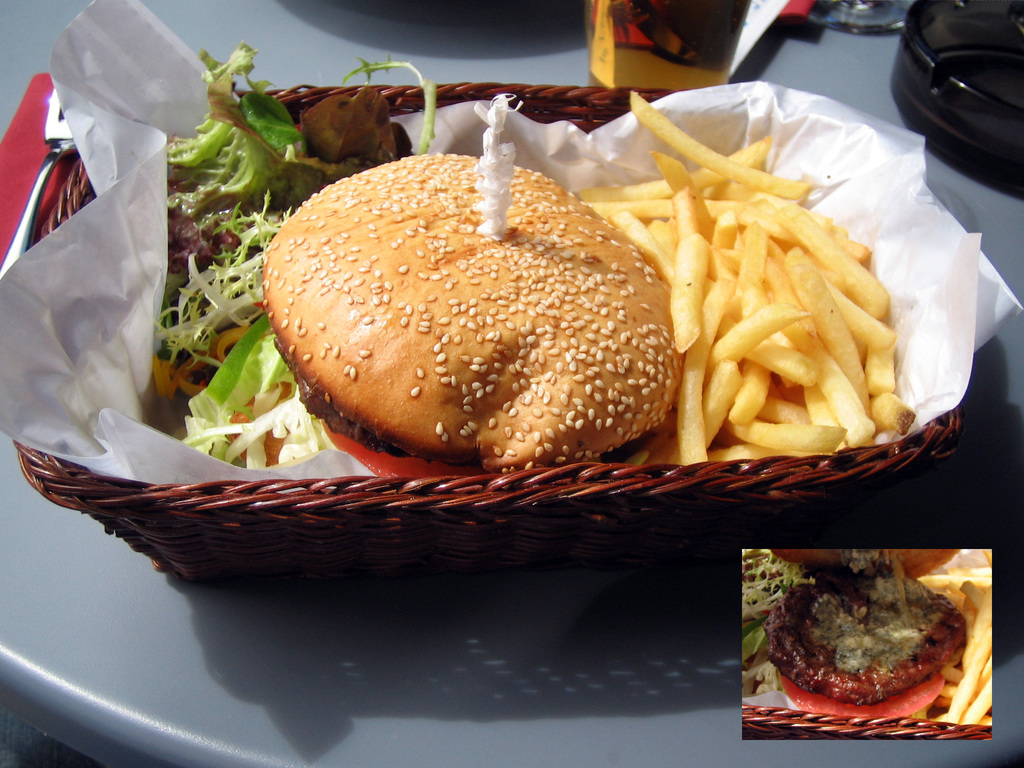French fries: (579, 92, 925, 479), (917, 567, 991, 721)
